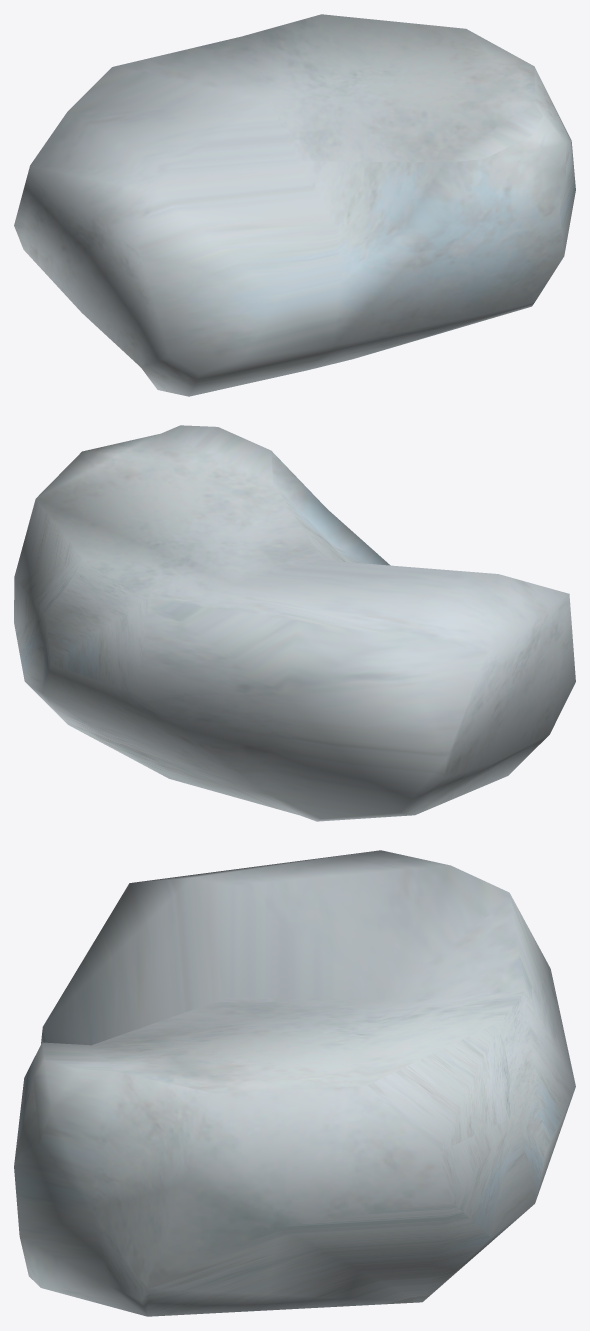
File: P_RockDesert_Rock07.obj
3 renders of one model, top to bottom at view 1: azimuth 30°, elevation 25°; view 2: azimuth 150°, elevation 25°; view 3: azimuth 270°, elevation 25°, orthographic. The views are drawn at different scales.
Size of the model in its own units: 1.4 by 0.7215 by 1.12.
